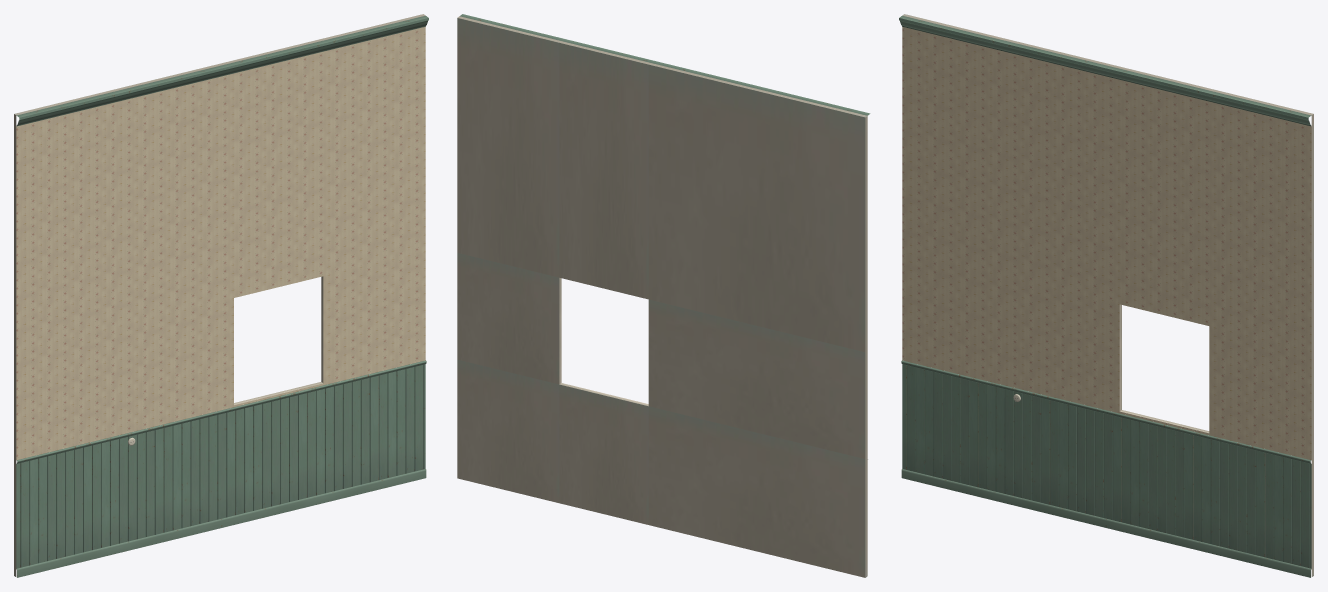
File: wall.glb
The picture shows the model from 3 angles, left to right: view 1: azimuth 30°, elevation 25°; view 2: azimuth 150°, elevation 25°; view 3: azimuth 330°, elevation 25°; orthographic projection.
Visible parts, largest first — view 1: wall_paper, wall_panels; view 2: wall_panels; view 3: wall_paper, wall_panels.
Boxes of the visible parts, bbox=[...] form: wall_paper: bbox=[16, 27, 425, 460]; wall_panels: bbox=[14, 14, 428, 577]; wall_panels: bbox=[457, 14, 870, 577]; wall_paper: bbox=[902, 27, 1311, 460]; wall_panels: bbox=[899, 14, 1313, 577].
Bounding box in the file's own units: 32 × 34.5 × 0.7202.
2 materials, 2 textured.
